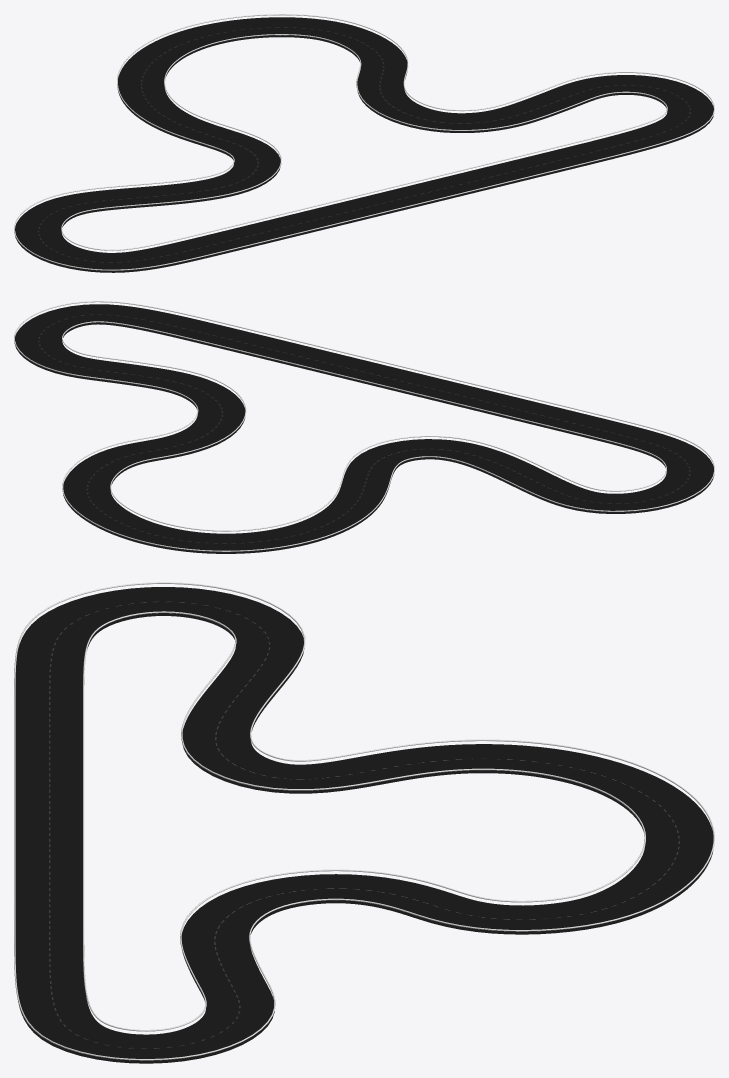
The model's file is PromoTrack.fbx.
The picture shows the model from 3 angles, top to bottom: view 1: azimuth 30°, elevation 25°; view 2: azimuth 150°, elevation 25°; view 3: azimuth 270°, elevation 25°; orthographic projection. The views are drawn at different scales.
Parts seen in each view (by area): view 1: Track.027, LaserR.020, LaserL.020; view 2: Track.027, LaserR.020, LaserL.020; view 3: Track.027, LaserR.020, LaserL.020.
Boxes of the visible parts, box(x1,y1,x2,y2) form: Track.027: box(15, 17, 713, 272); LaserR.020: box(14, 14, 714, 270); LaserL.020: box(61, 34, 667, 250); Track.027: box(14, 304, 714, 553); LaserR.020: box(14, 301, 714, 551); LaserL.020: box(62, 321, 666, 531); Track.027: box(15, 587, 713, 1063); LaserR.020: box(14, 582, 714, 1060); LaserL.020: box(83, 611, 645, 1031).
Size of the model in its own units: 4269 by 18.65 by 2649.
